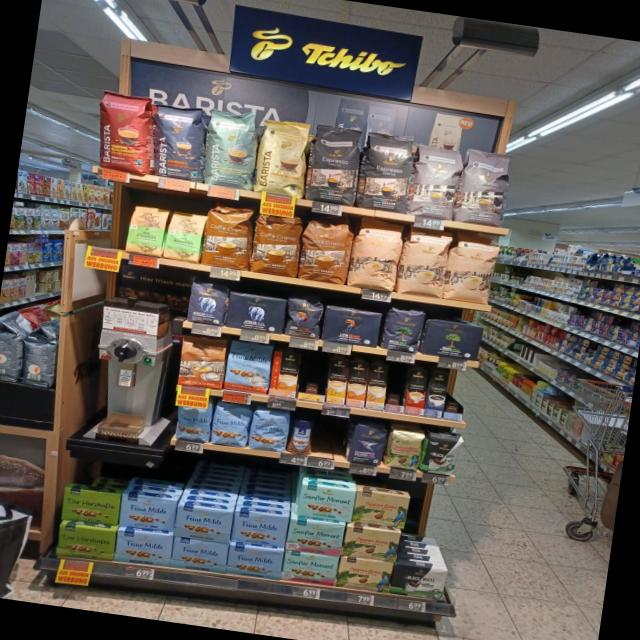AB Bohne: (184, 278, 230, 326)
AB Gemahlen: (224, 290, 288, 335)
Athiopien Gemahlen: (163, 207, 207, 264), (126, 202, 170, 257)
BM Gemahlen: (420, 318, 484, 362), (382, 306, 428, 354)
BW Bohne: (422, 431, 464, 479)
BW Gemahlen: (391, 564, 448, 602)
Barista CB: (252, 117, 314, 200)
Barista CC: (199, 106, 264, 192)
Barista Espresso: (148, 102, 213, 185)
Barista Kolumbien: (89, 87, 160, 177)
C Fino Bohne: (347, 421, 389, 468)
CC Mild: (348, 215, 406, 293), (445, 230, 501, 306), (397, 224, 452, 299)
CC Vollmundig: (174, 332, 230, 390)
CC Vollmundig 36 Pads: (296, 212, 356, 285), (198, 202, 256, 272), (249, 212, 304, 278)
Colombia BB Gemahlen: (352, 490, 412, 530), (342, 526, 401, 564), (338, 556, 394, 595), (386, 427, 426, 472)
Empty Shelf: (313, 416, 352, 462), (296, 354, 331, 396), (445, 373, 468, 414), (386, 365, 408, 406)
Espresso Aromatisch: (406, 139, 466, 222), (455, 146, 515, 228)
Espresso Kraftig: (357, 130, 418, 214), (306, 121, 365, 206)
FM 36 Pads: (222, 340, 274, 396)
FM Bohne: (249, 406, 292, 454), (210, 402, 252, 448), (174, 404, 214, 444)
FM Gemahlen: (173, 503, 234, 545), (113, 528, 174, 569), (118, 494, 178, 534), (230, 510, 290, 550), (170, 536, 229, 574), (226, 543, 285, 581)
FM Instant: (287, 416, 317, 456)
Herzhatfe Mundig: (59, 487, 122, 528), (54, 522, 117, 562)
LG Bohne: (282, 294, 326, 340)
LG Gemahlen: (320, 306, 383, 349)
SM Gemahlen: (296, 482, 358, 524), (287, 517, 346, 557), (282, 550, 340, 588)
Simo CCMild bigpack: (324, 358, 350, 406)
Simo CCVollmundig: (268, 351, 302, 398)
Simo CCVollmundig bigpack: (346, 361, 370, 408)
Simo Decaff: (366, 362, 390, 410)
Simo Es Brazil: (404, 368, 430, 416)
Simo Es Kraft: (425, 371, 449, 418)
